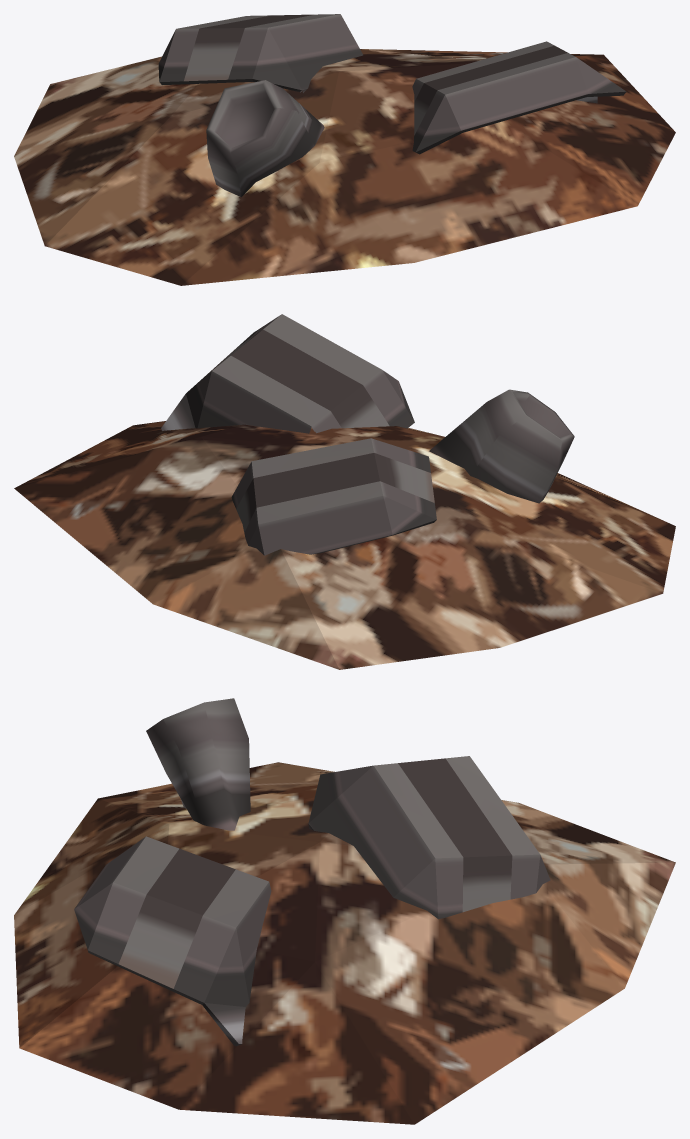
The model's file is Trash_pile_003.glb.
The picture shows the model from 3 angles, top to bottom: view 1: azimuth 30°, elevation 25°; view 2: azimuth 150°, elevation 25°; view 3: azimuth 270°, elevation 25°; orthographic projection. The views are drawn at different scales.
Parts seen in each view (by area): view 1: Trash_pile_003; view 2: Trash_pile_003; view 3: Trash_pile_003.
Part boxes in pixels (box(x1,y1,x2,y2)): Trash_pile_003: box(14, 14, 675, 285); Trash_pile_003: box(14, 314, 675, 669); Trash_pile_003: box(14, 698, 675, 1124).
Size of the model in its own units: 0.5359 by 0.1243 by 0.4136.
1 material, 1 textured.
